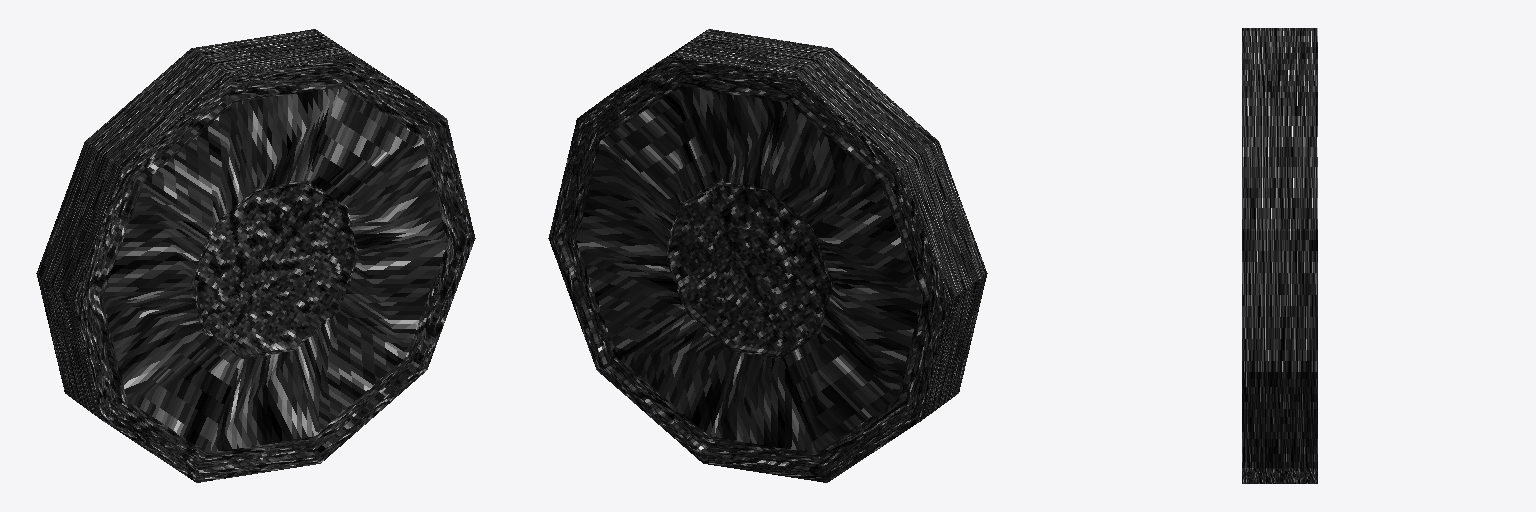
3 renders of one model, left to right at view 1: azimuth 30°, elevation 25°; view 2: azimuth 150°, elevation 25°; view 3: azimuth 270°, elevation 25°, orthographic.
Visible parts, largest first — view 1: rueda1; view 2: rueda1; view 3: rueda1.
Boxes of the visible parts, x1,y1,x2,y2 form: rueda1: [36, 29, 475, 482]; rueda1: [548, 29, 987, 482]; rueda1: [1242, 28, 1317, 483].
Size of the model in its own units: 0.8659 by 0.8461 by 0.1414.
Materials: 1 (1 with a texture image).